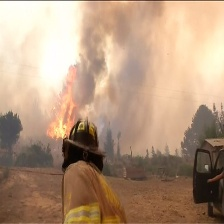fire: (43, 66, 79, 143)
smoke: (1, 1, 224, 116)
